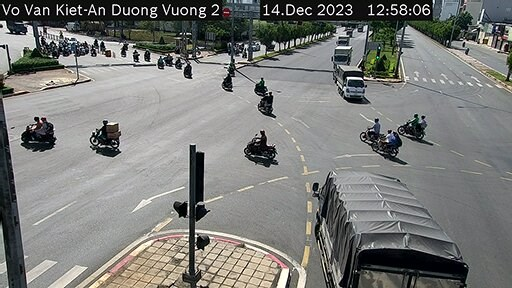motorbike: (18, 115, 59, 148), (240, 127, 275, 161), (92, 111, 120, 151), (400, 108, 423, 143), (376, 130, 403, 156), (254, 88, 275, 118), (360, 115, 379, 148), (245, 77, 276, 96), (220, 71, 238, 95)
truck: (301, 162, 462, 288), (337, 65, 368, 105), (326, 44, 359, 72)
